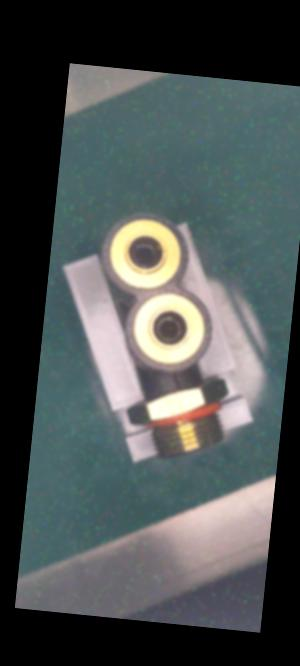craze: (169, 369, 182, 390)
